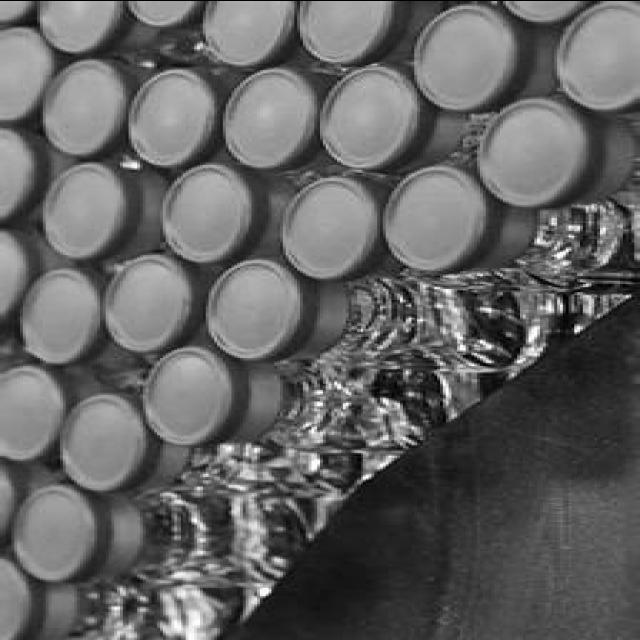vial: (222, 59, 333, 170), (482, 96, 590, 208), (423, 0, 528, 113), (278, 171, 377, 281), (52, 384, 148, 496), (382, 166, 486, 269), (47, 52, 145, 152), (12, 262, 104, 368), (138, 67, 234, 167), (328, 54, 413, 164), (154, 336, 238, 446), (165, 160, 254, 260), (220, 258, 308, 358), (49, 167, 144, 259), (114, 255, 194, 349), (566, 2, 640, 102), (301, 0, 417, 62), (0, 358, 64, 466), (20, 492, 96, 582), (200, 0, 302, 61), (42, 0, 154, 49), (0, 22, 52, 118), (0, 122, 40, 226), (1, 227, 28, 325), (0, 560, 28, 640), (0, 451, 20, 540), (507, 0, 595, 20), (134, 0, 200, 26), (0, 0, 54, 21)
